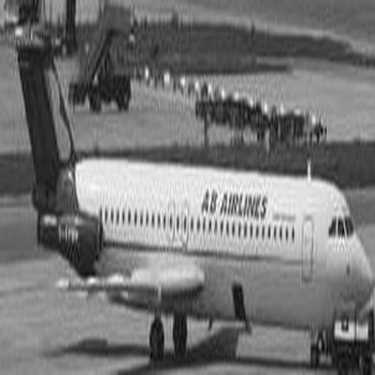airplane: (2, 1, 371, 371)
